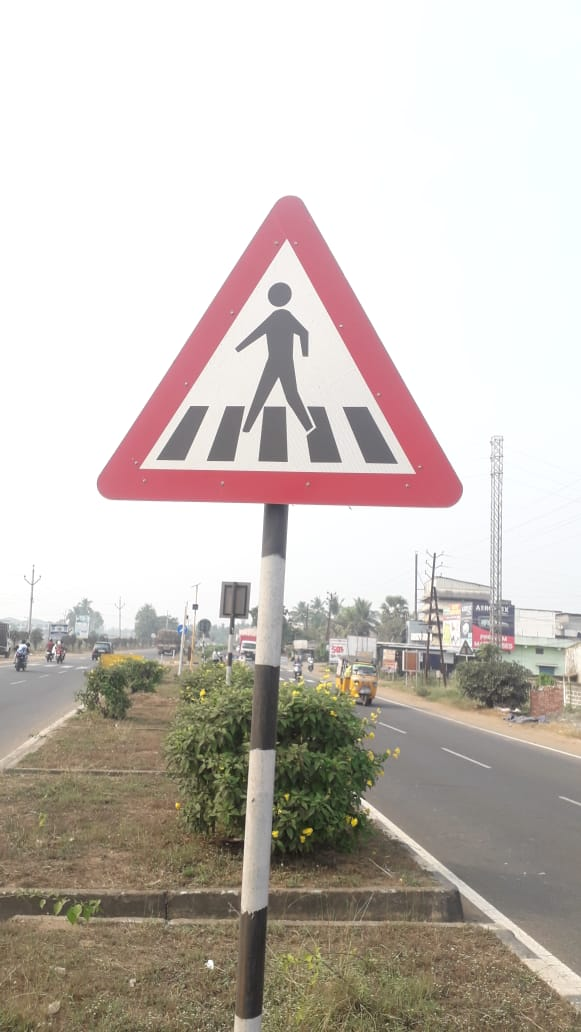pedestrian crossing: (62, 207, 525, 581)
